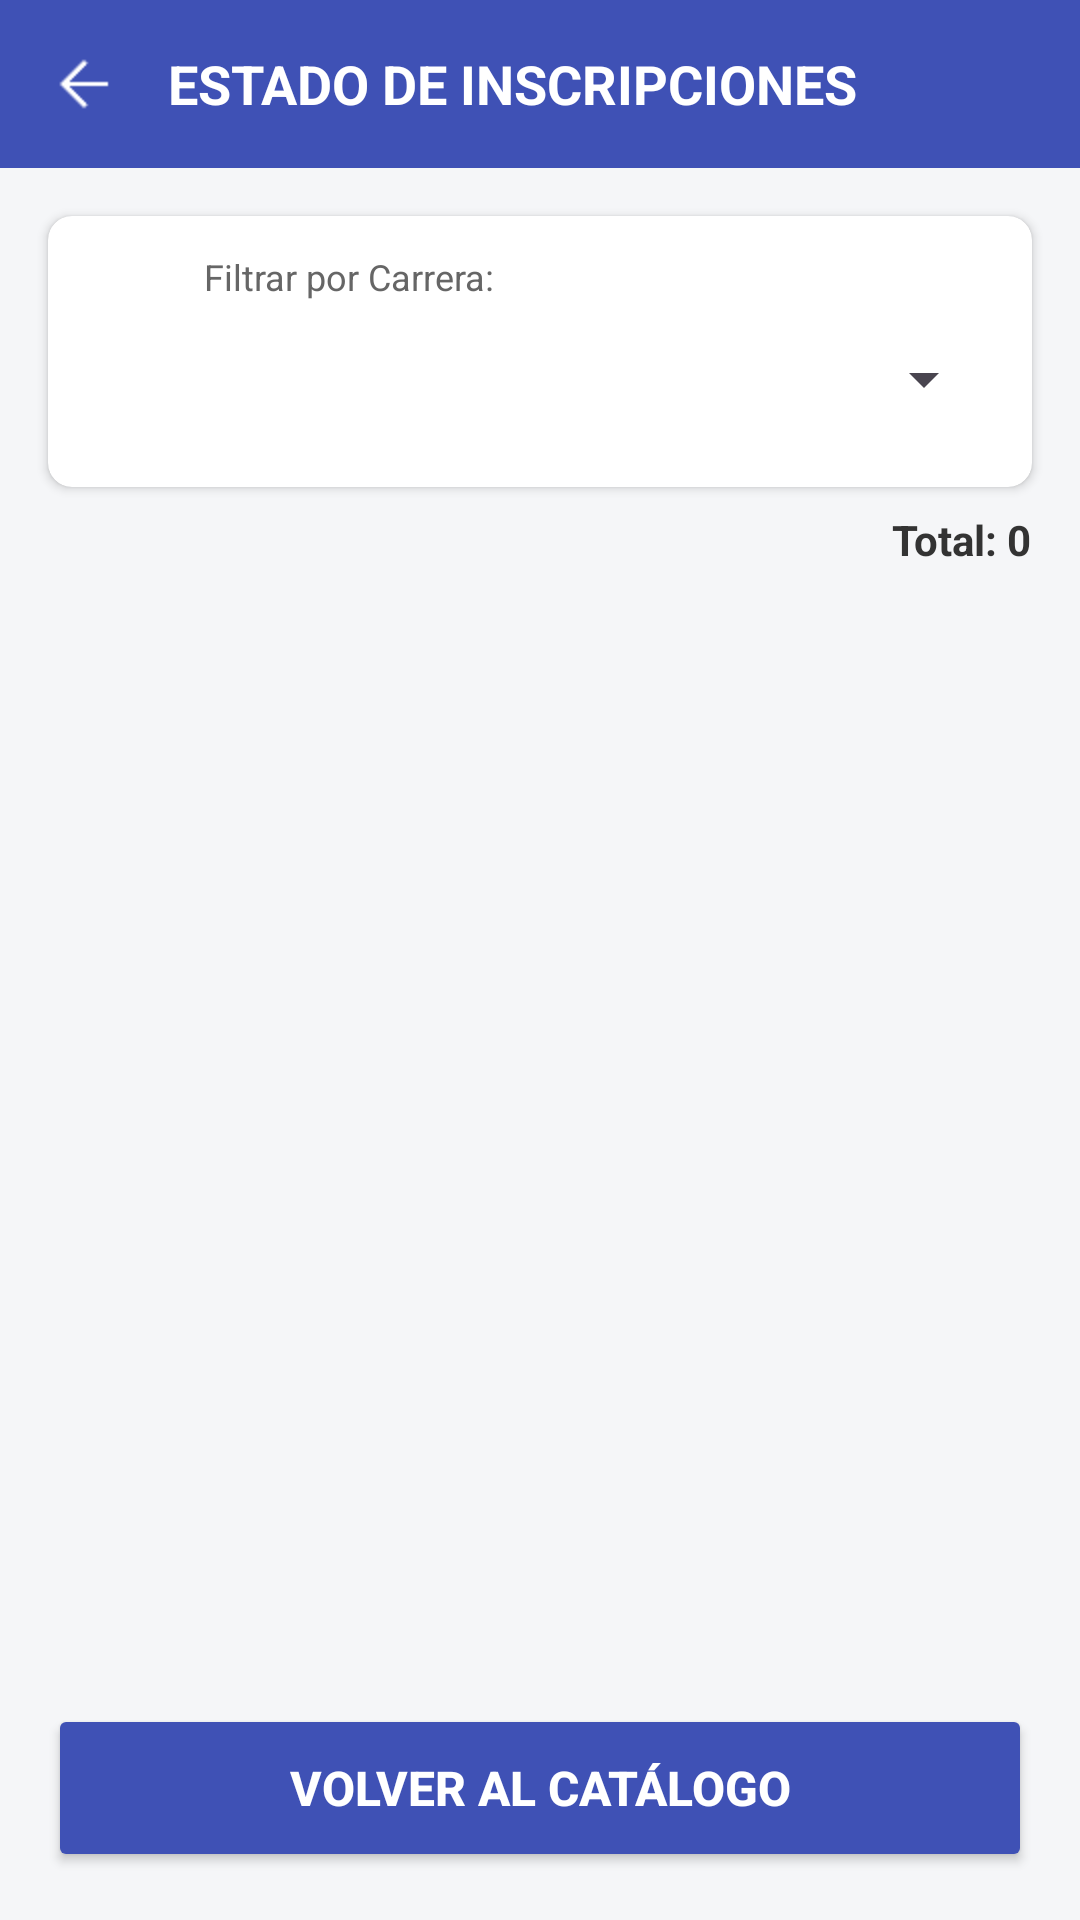

Icons on this 1080×1920 Android screen, each with its box as (x1, y1, x2, y2):
Volver: (60, 60, 109, 108)
